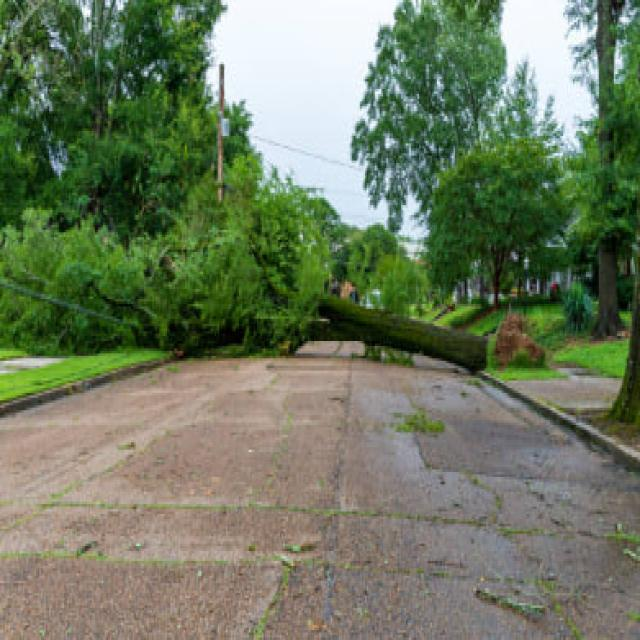fallen_tree: (0, 105, 549, 414)
